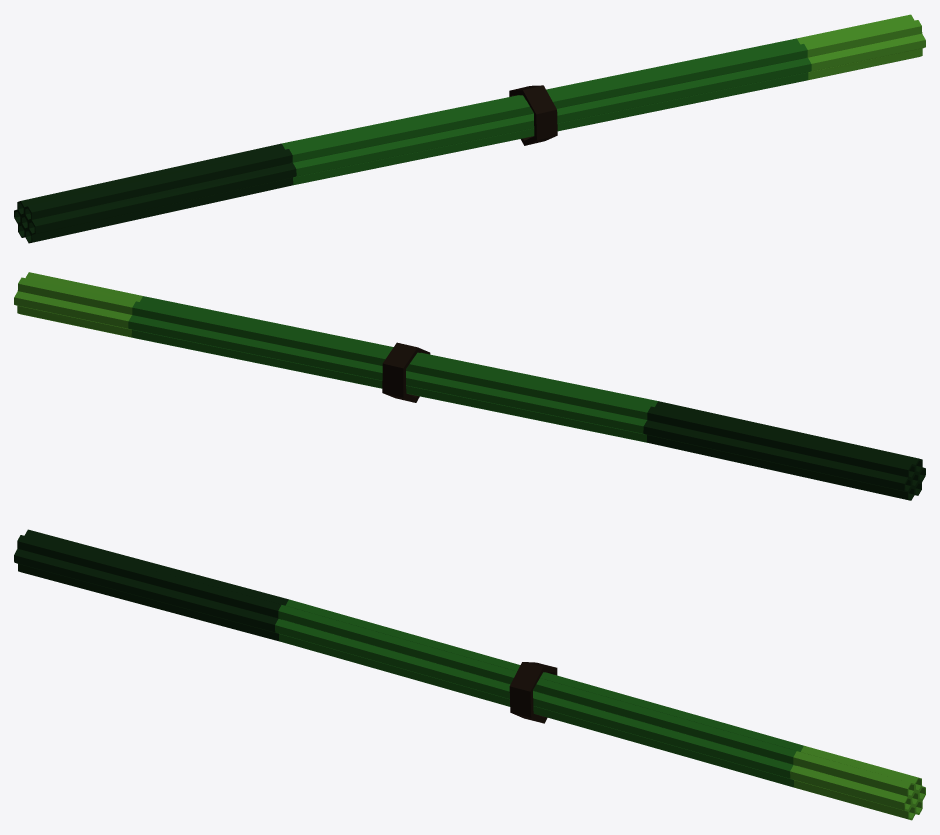
File: Herb01.fbx
The picture shows the model from 3 angles, top to bottom: view 1: azimuth 30°, elevation 25°; view 2: azimuth 150°, elevation 25°; view 3: azimuth 330°, elevation 25°; orthographic projection.
Parts seen in each view (by area): view 1: Cylinder027; view 2: Cylinder027; view 3: Cylinder027.
Part boxes in pixels (bbox=[...]): Cylinder027: bbox=[14, 14, 925, 243]; Cylinder027: bbox=[14, 272, 925, 500]; Cylinder027: bbox=[14, 529, 925, 820].
Bounding box in the file's own units: 31.71 × 2.32 × 1.66.
